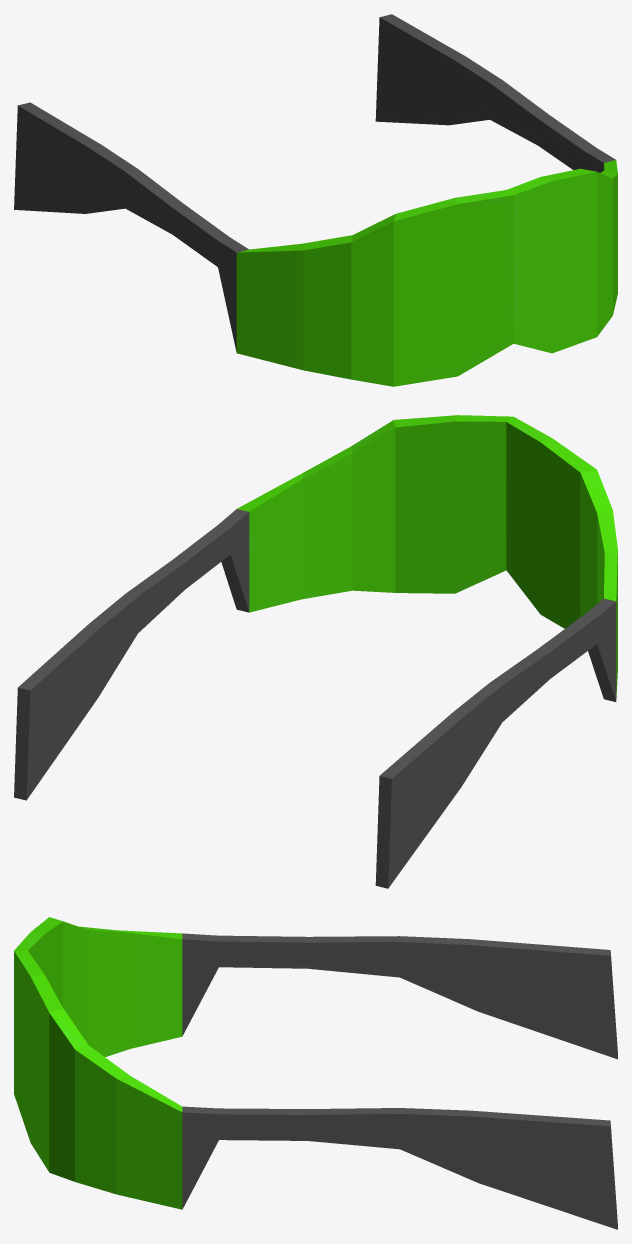
Rendered from JBayer_XRayGoggles.fbx.
3 renders of one model, top to bottom at view 1: azimuth 30°, elevation 25°; view 2: azimuth 150°, elevation 25°; view 3: azimuth 270°, elevation 25°, orthographic. The views are drawn at different scales.
Visible parts, largest first — view 1: Cube; view 2: Cube; view 3: Cube.
Part boxes in pixels (bbox=[...]): Cube: bbox=[14, 14, 617, 386]; Cube: bbox=[14, 415, 617, 888]; Cube: bbox=[14, 917, 617, 1229].
Bounding box in the file's own units: 119 × 59.46 × 170.
Materials: 1 (1 with a texture image).
